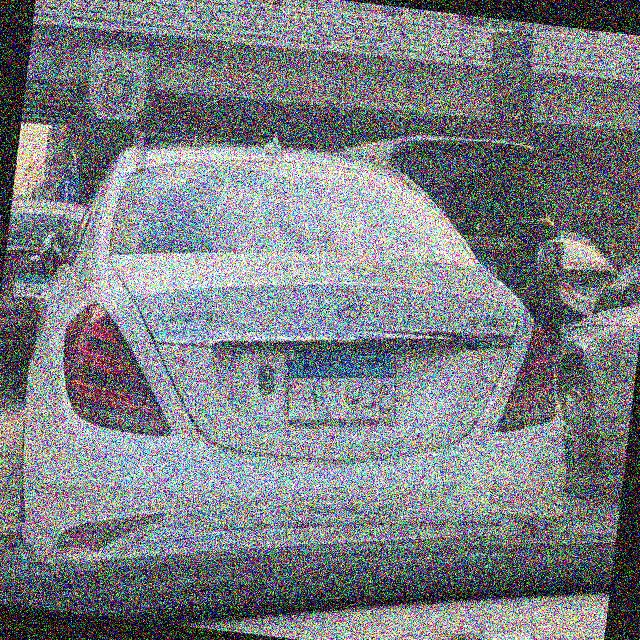License Plate: (279, 337, 405, 443)
